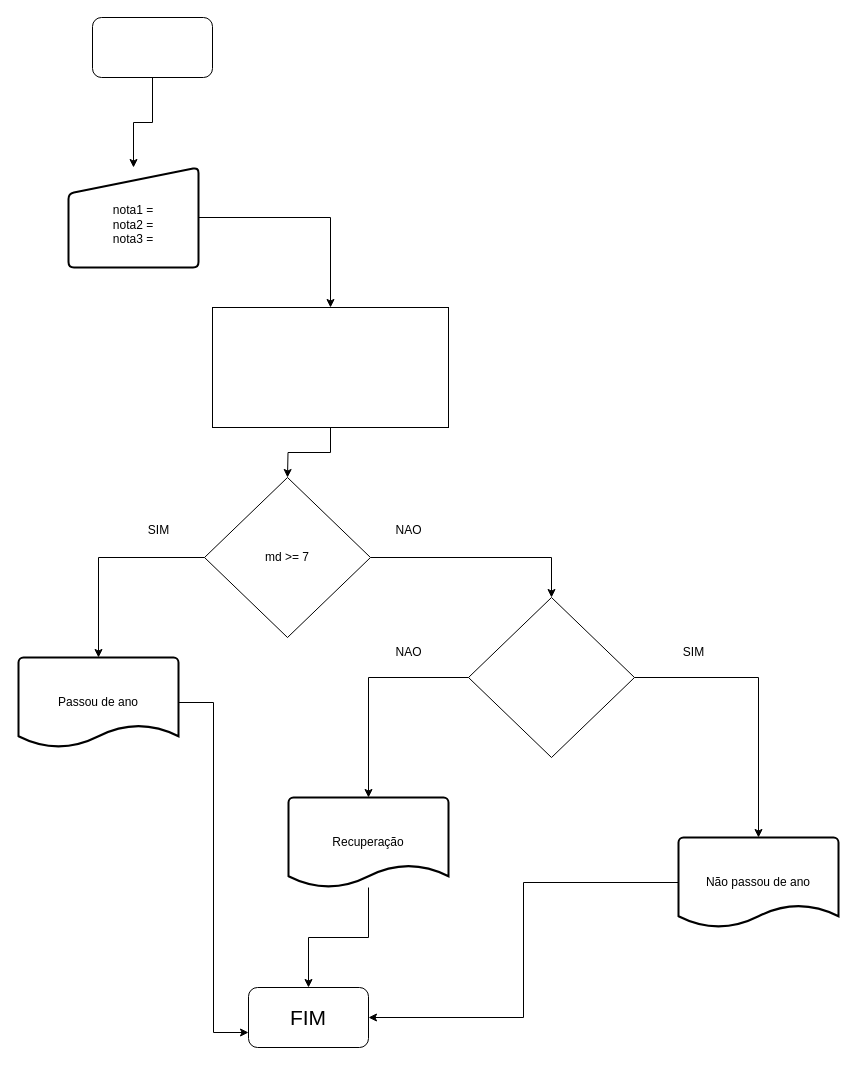
Image size: 856x1065. Some labels were removed from this diagram. The shapes that lost their labels are listed below. From the top down, each one's centre as x and y in pixels, then its label:
(x=152, y=47): INICIO
(x=330, y=367): (nota1 + nota2 + nota3) /3 = md
(x=551, y=677): md < 5 && md >=0
